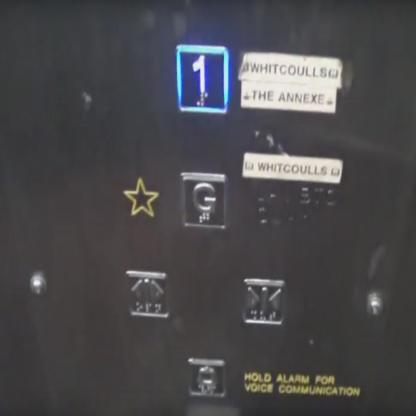1: (173, 38, 231, 118)
G: (179, 168, 228, 235)
alarm: (186, 356, 227, 401)
close: (241, 276, 285, 328)
open: (124, 268, 171, 320)
